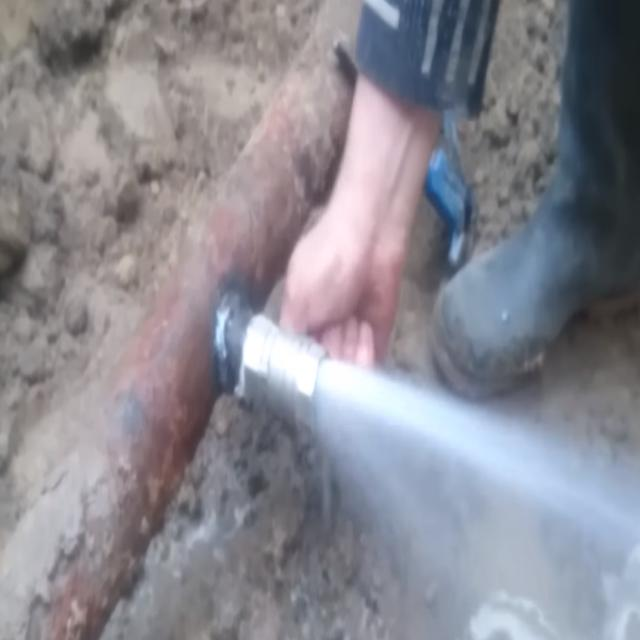leak: (312, 357, 640, 640)
